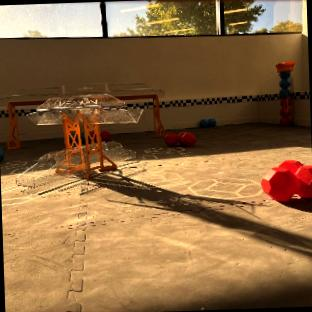V5_BLUE: (200, 118, 215, 127)
V5_RED: (260, 160, 312, 202), (165, 132, 196, 147), (282, 96, 289, 124), (101, 131, 110, 140)
